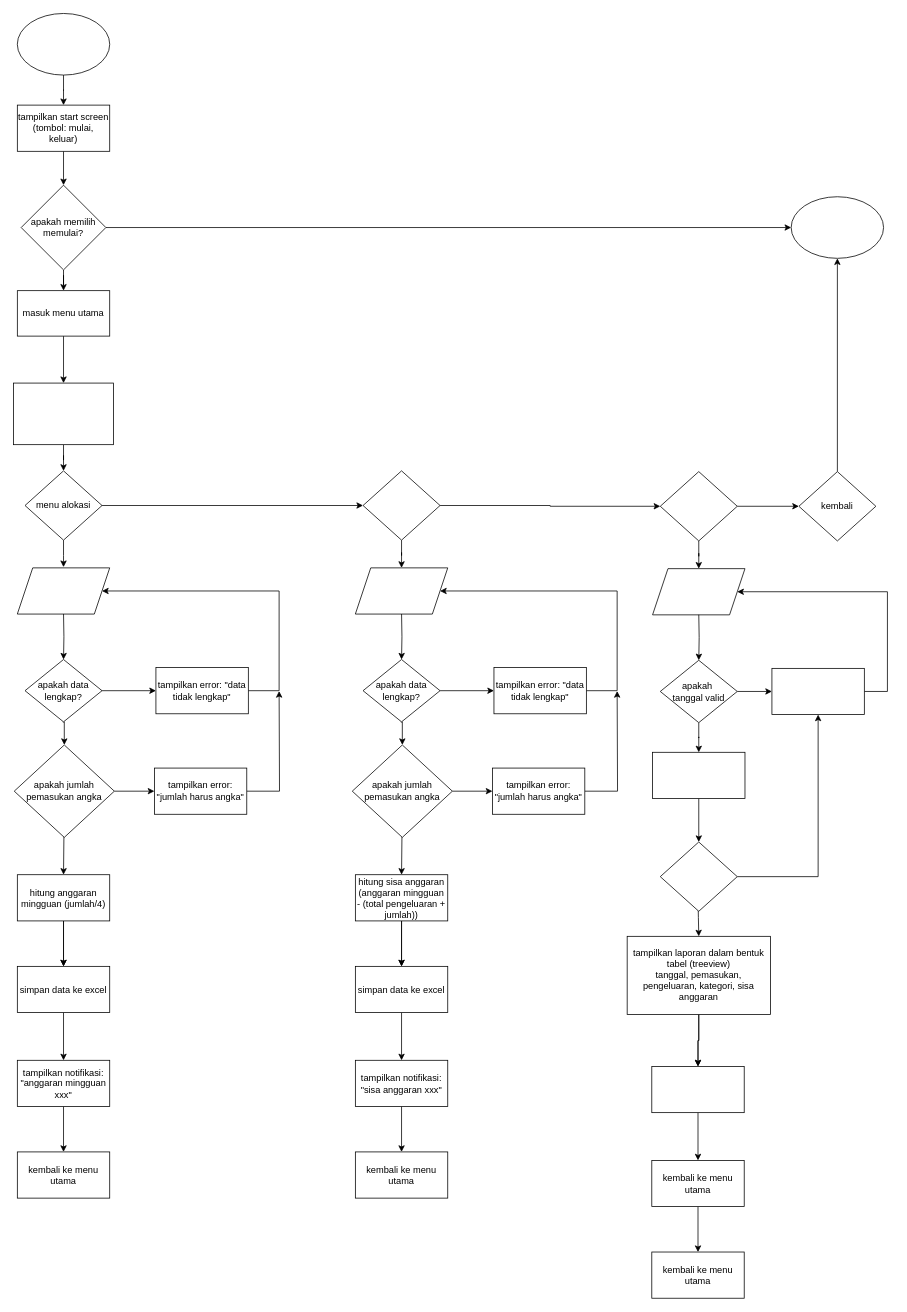
The diagram is 907 pixels wide and 1312 high, and some of its shapes have lost their labels. The centre of each missing label's shape, as x and y in pixels:
apakah data ditemukan: the point at 698,876
filter data berdasarkan tanggal yang dipilih: the point at 698,775
input data: tanggal (untuk filter): the point at 698,591
input: tanggal, pemasukan, keterangan: the point at 63,590
input: tanggal, pengeluaran, keterangan: the point at 401,590
menu laporan bulanan: the point at 698,506
menu pengeluaran: the point at 401,505
mulai: the point at 63,44
pilihan menu utama: pemasukan, pengeluaran, laporan bulanan, kembali: the point at 63,413
selesai: the point at 837,227
tampilkan total pemasukan, pengeluaran, dan sisa: the point at 697,1089
tidak memunculkan anggaran: the point at 817,691
